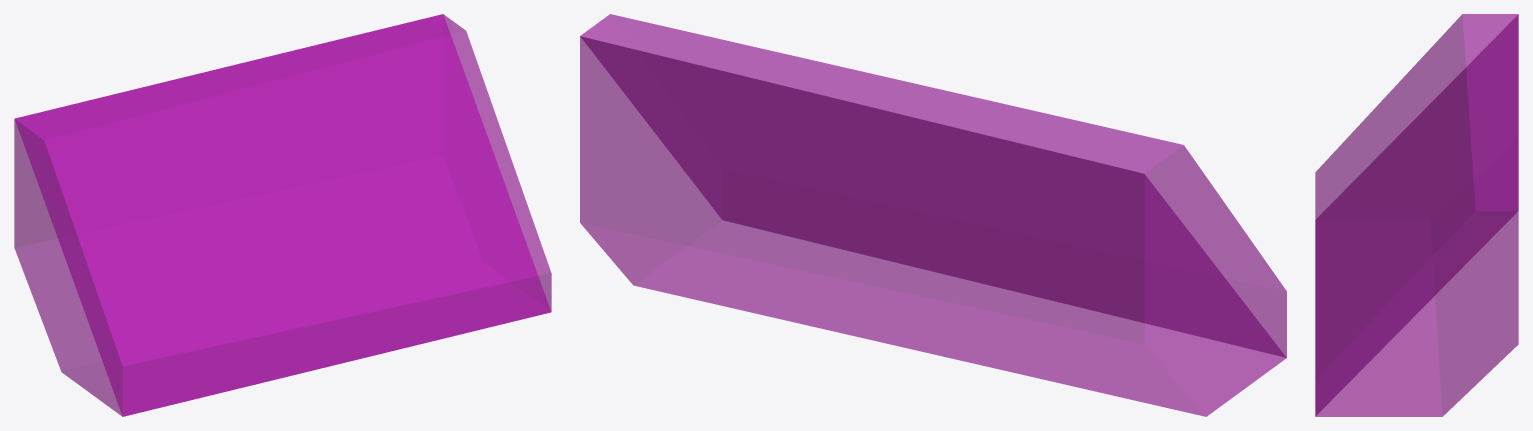
The model's file is SM_Prop_Trellis_Swing_01_Seat_Collision.fbx.
The picture shows the model from 3 angles, left to right: view 1: azimuth 30°, elevation 25°; view 2: azimuth 150°, elevation 25°; view 3: azimuth 270°, elevation 25°; orthographic projection. The views are drawn at different scales.
Parts seen in each view (by area): view 1: SM_Prop_Trellis_Swing_01_Seat_Collision; view 2: SM_Prop_Trellis_Swing_01_Seat_Collision; view 3: SM_Prop_Trellis_Swing_01_Seat_Collision.
Boxes of the visible parts, bbox=[...] form: SM_Prop_Trellis_Swing_01_Seat_Collision: bbox=[14, 14, 551, 416]; SM_Prop_Trellis_Swing_01_Seat_Collision: bbox=[580, 14, 1286, 416]; SM_Prop_Trellis_Swing_01_Seat_Collision: bbox=[1315, 14, 1518, 416].
Size of the model in its own units: 224 by 110 by 98.04.
